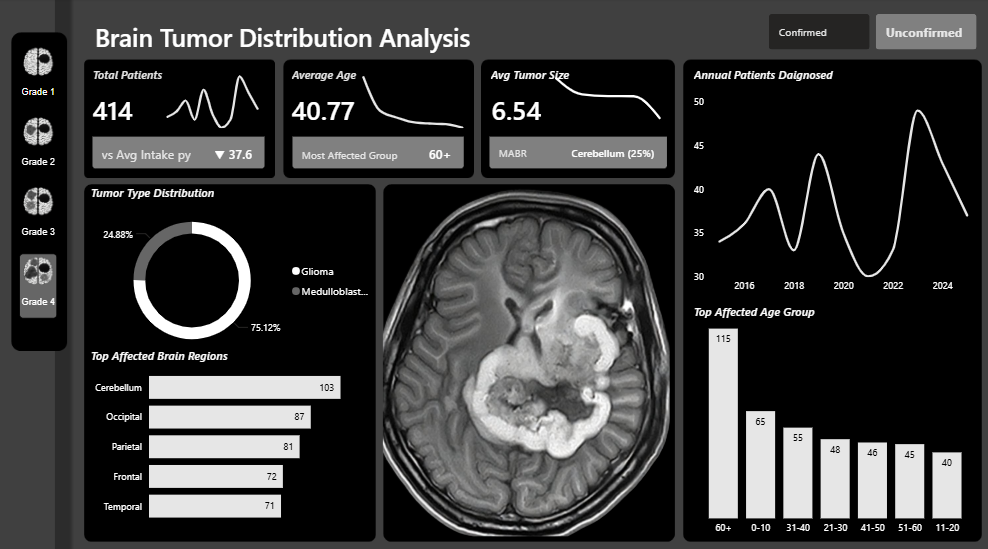

Layout of this report page (visuals, bound fields, positions):
{"tool":"powerbi","page":{"name":"Page 1","canvas":[1280,720],"ordinal":0},"visuals":[{"type":"cardVisual","fields":{"Data":["Count(Brain Tumor Data.Patient ID)"]},"box":[92.1,96.4,137.5,89.3],"z":0},{"type":"lineChart","fields":{"Category":["Brain Tumor Data.Date of Diagnosis.Variation.Date Hierarchy.Year"],"Y":["CountNonNull(Brain Tumor Data.Patient ID)"]},"box":[202.7,83.6,146,89.3],"z":1000},{"type":"cardVisual","fields":{"Data":["Count(Brain Tumor Data.Patient ID)"]},"box":[92.1,83.6,280.6,165.8],"z":2000},{"type":"textbox","box":[116.2,83.6,113.4,45.4],"z":3000},{"type":"cardVisual","fields":{"Data":["Avg(Brain Tumor Data.Age)"]},"box":[348.7,96.4,151.7,89.3],"z":4000},{"type":"lineChart","fields":{"Y":["CountNonNull(Brain Tumor Data.Patient ID)"],"Category":["Brain Tumor Data.Age Group"]},"box":[456.4,83.6,154.5,89.3],"z":5000},{"type":"cardVisual","fields":{"Data":["Count(Brain Tumor Data.Patient ID)"]},"box":[350.1,83.6,279.2,165.8],"z":6000},{"type":"textbox","box":[372.8,83.6,113.4,45.4],"z":7000},{"type":"textbox","box":[629.3,83.6,113.4,45.4],"z":8000},{"type":"cardVisual","fields":{"Data":["Count(Brain Tumor Data.Patient ID)"]},"box":[603.8,83.6,287.7,165.8],"z":9000},{"type":"cardVisual","fields":{"Data":["Avg(Brain Tumor Data.Tumor Size (cm))"]},"box":[606.6,96.4,141.7,89.3],"z":10000},{"type":"lineChart","fields":{"Y":["Avg(Brain Tumor Data.Tumor Size (cm))"],"Category":["Brain Tumor Data.Affected Brain Region"]},"box":[700.2,83.6,170.1,89.3],"z":11000},{"type":"advancedSlicerVisual","fields":{"Values":["Brain Tumor Data.Histology Confirmation"]},"box":[987.9,15.6,279.2,56.7],"z":12000},{"type":"ChicletSlicer1448559807354","fields":{"Category":["Tumor Images.Tumor Grade"],"Image":["Tumor Images.Icon URL"]},"box":[18.4,51,73.7,395.4],"z":13000},{"type":"imageDB603108E3FF4EBFB8047F5653368E8C","fields":{"imageUrl":["Tumor Images.Image URL"]},"box":[490.4,236.7,379.8,464.9],"z":14000},{"type":"donutChart","fields":{"Category":["Brain Tumor Data.Tumor Type"],"Y":["CountNonNull(Brain Tumor Data.Patient ID)"]},"box":[116.2,249.4,377,231],"z":15000},{"type":"textbox","box":[113.4,236.7,177.2,45.4],"z":16000},{"type":"clusteredBarChart","fields":{"Category":["Brain Tumor Data.Affected Brain Region"],"Y":["CountNonNull(Brain Tumor Data.Patient ID)"]},"box":[113.4,459.2,367.1,232.4],"z":17000},{"type":"textbox","box":[113.4,446.5,205.5,45.4],"z":18000},{"type":"lineChart","fields":{"Y":["CountNonNull(Brain Tumor Data.Patient ID)"],"Category":["Brain Tumor Data.Date of Diagnosis.Variation.Date Hierarchy.Year"]},"box":[891.5,120.5,375.6,269.3],"z":19000},{"type":"textbox","box":[891.5,83.6,205.5,36.9],"z":20000},{"type":"clusteredColumnChart","fields":{"Category":["Brain Tumor Data.Age Group"],"Y":["CountNonNull(Brain Tumor Data.Patient ID)"]},"box":[891.5,389.8,375.6,311.8],"z":21000},{"type":"textbox","box":[891.5,389.8,188.5,39.7],"z":22000},{"type":"textbox","box":[119.1,22.7,521.6,60.9],"z":22001}]}

Visuals, with their boxes in screenshot pixels (x1, y1, x2, y2), scaled from the page's 1280x720 canvas onto the 988x549 screenshot:
cardVisual - Count(Brain Tumor Data.Patient ID): crop(71, 74, 177, 142)
lineChart - Brain Tumor Data.Date of Diagnosis.Variation.Date Hierarchy.Year x CountNonNull(Brain Tumor Data.Patient ID): crop(156, 64, 269, 132)
cardVisual - Count(Brain Tumor Data.Patient ID): crop(71, 64, 288, 190)
textbox: crop(90, 64, 177, 98)
cardVisual - Avg(Brain Tumor Data.Age): crop(269, 74, 386, 142)
lineChart - CountNonNull(Brain Tumor Data.Patient ID) x Brain Tumor Data.Age Group: crop(352, 64, 472, 132)
cardVisual - Count(Brain Tumor Data.Patient ID): crop(270, 64, 486, 190)
textbox: crop(288, 64, 375, 98)
textbox: crop(486, 64, 573, 98)
cardVisual - Count(Brain Tumor Data.Patient ID): crop(466, 64, 688, 190)
cardVisual - Avg(Brain Tumor Data.Tumor Size (cm)): crop(468, 74, 578, 142)
lineChart - Avg(Brain Tumor Data.Tumor Size (cm)) x Brain Tumor Data.Affected Brain Region: crop(540, 64, 672, 132)
advancedSlicerVisual - Brain Tumor Data.Histology Confirmation: crop(763, 12, 978, 55)
ChicletSlicer1448559807354 - Tumor Images.Tumor Grade x Tumor Images.Icon URL: crop(14, 39, 71, 340)
imageDB603108E3FF4EBFB8047F5653368E8C - Tumor Images.Image URL: crop(379, 180, 672, 535)
donutChart - Brain Tumor Data.Tumor Type x CountNonNull(Brain Tumor Data.Patient ID): crop(90, 190, 381, 366)
textbox: crop(88, 180, 224, 215)
clusteredBarChart - Brain Tumor Data.Affected Brain Region x CountNonNull(Brain Tumor Data.Patient ID): crop(88, 350, 371, 527)
textbox: crop(88, 340, 246, 375)
lineChart - CountNonNull(Brain Tumor Data.Patient ID) x Brain Tumor Data.Date of Diagnosis.Variation.Date Hierarchy.Year: crop(688, 92, 978, 297)
textbox: crop(688, 64, 847, 92)
clusteredColumnChart - Brain Tumor Data.Age Group x CountNonNull(Brain Tumor Data.Patient ID): crop(688, 297, 978, 535)
textbox: crop(688, 297, 834, 327)
textbox: crop(92, 17, 495, 64)
